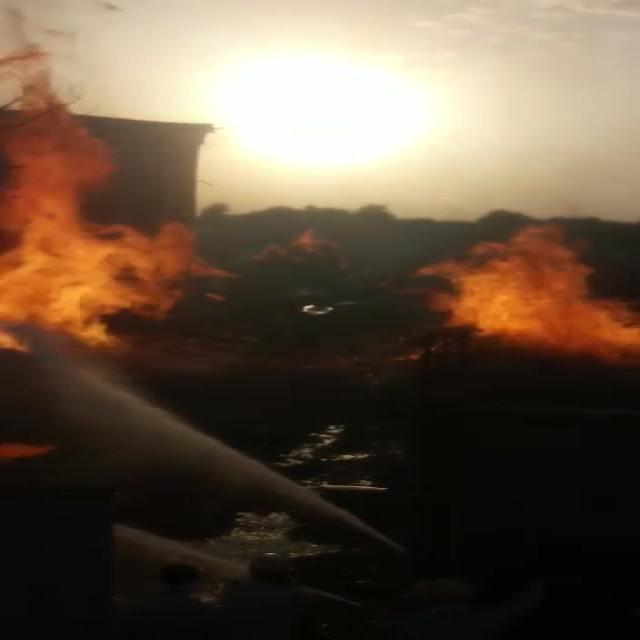Fire: (0, 93, 196, 361), (415, 222, 640, 369)
